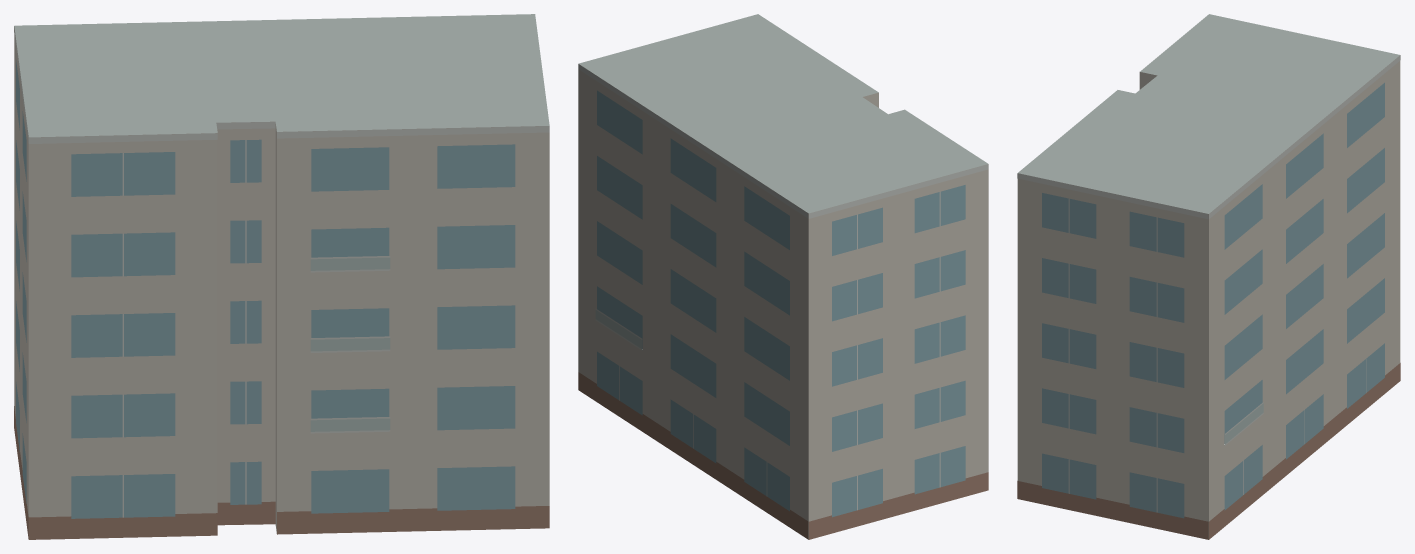
Rendered from survey-upis-32886180.glb.
3 views of the same model, side by side, from view 1: azimuth 30°, elevation 25°; view 2: azimuth 150°, elevation 25°; view 3: azimuth 270°, elevation 25° (orthographic). The views are drawn at different scales.
Visible parts, largest first — view 1: survey-upis-32886180.tmp; view 2: survey-upis-32886180.tmp; view 3: survey-upis-32886180.tmp.
Boxes of the visible parts, left/top/right/bottom form: survey-upis-32886180.tmp: left=14, top=14, right=549, bottom=539; survey-upis-32886180.tmp: left=578, top=14, right=988, bottom=539; survey-upis-32886180.tmp: left=1017, top=14, right=1400, bottom=539.
Size of the model in its own units: 19.23 by 14.6 by 15.56.
